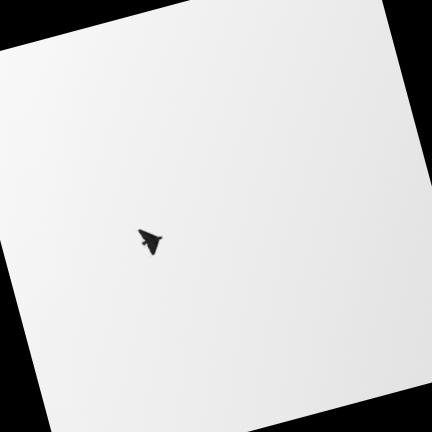Shahed: (138, 229, 161, 254)
